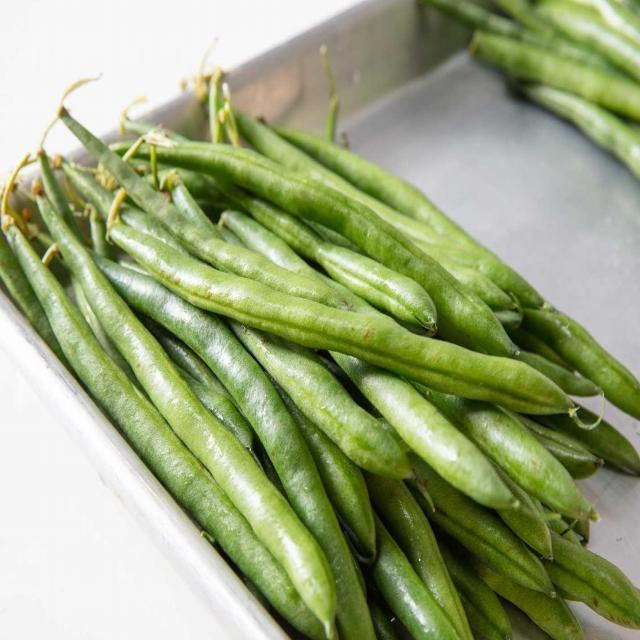Beans: (0, 49, 639, 639), (422, 0, 639, 187)
